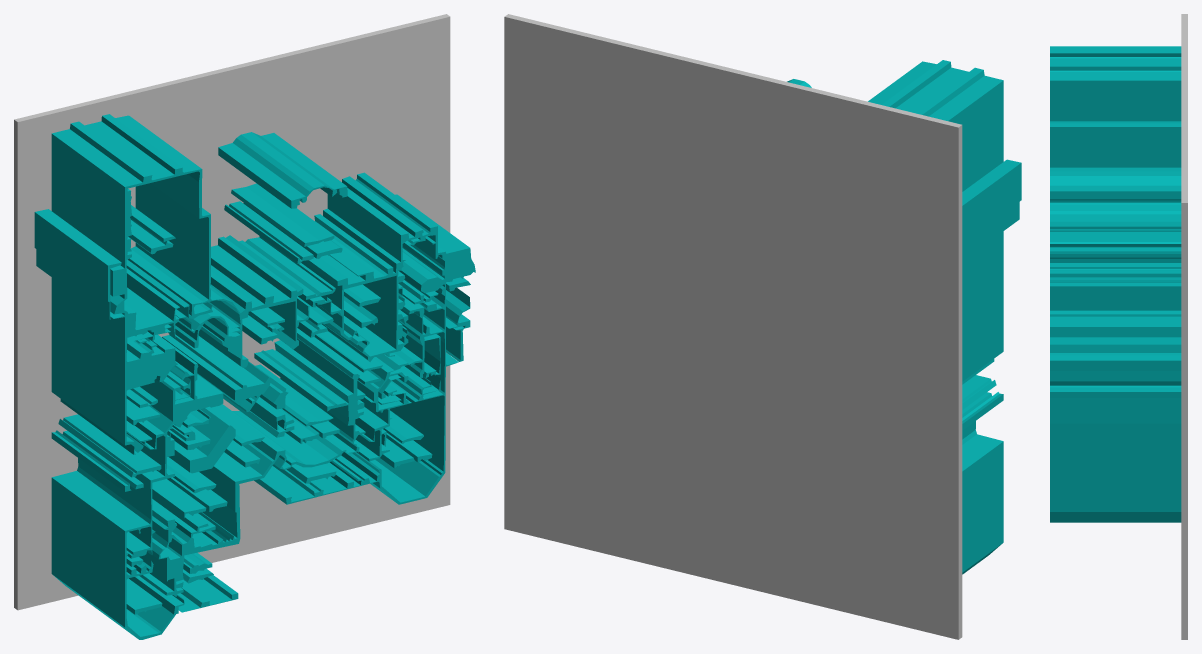
3 views of the same model, side by side, from view 1: azimuth 30°, elevation 25°; view 2: azimuth 150°, elevation 25°; view 3: azimuth 270°, elevation 25° (orthographic). The views are drawn at different scales.
Visible parts, largest first — view 1: world; view 2: world; view 3: world.
Part boxes in pixels (x1,y1,x2,y2): world: (14,14,475,639); world: (504,14,1021,639); world: (1050,14,1187,639).
Bounding box in the file's own units: 10.23 × 11.03 × 3.15.
